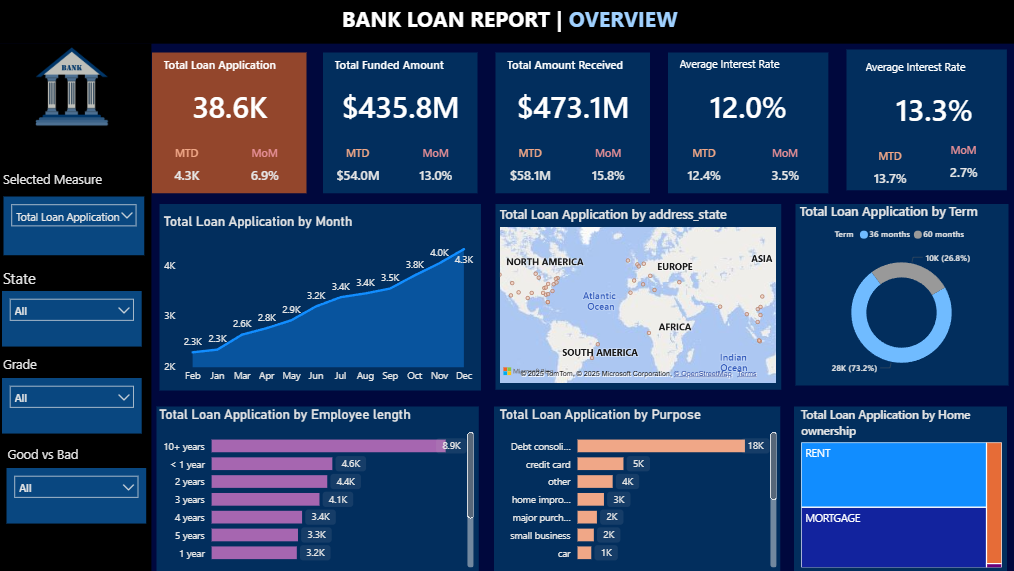

Layout of this report page (visuals, bound fields, positions):
{"tool":"powerbi","page":{"name":"Overview","canvas":[1280,720],"ordinal":1},"visuals":[{"type":"shape","box":[0,54.8,192,665.2],"z":0},{"type":"shape","box":[1068.4,62.4,202.2,177.6],"z":0,"group":"g5"},{"type":"shape","box":[192.8,66.1,194.6,177.6],"z":0,"group":"g1"},{"type":"shape","box":[407.4,66.1,194.6,177.6],"z":0,"group":"g2"},{"type":"shape","box":[625.2,66.1,194.6,177.6],"z":0,"group":"g3"},{"type":"shape","box":[843,66.1,202.2,177.6],"z":0,"group":"g4"},{"type":"shape","box":[0,0,1279.4,55],"z":1000},{"type":"card","fields":{"Values":["Bank loan Data.Total Loan Application"]},"box":[202.2,111.5,175.7,43.5],"z":1000,"group":"g1"},{"type":"card","fields":{"Values":["Bank loan Data.Total Funded Amount"]},"box":[416.8,111.5,175.7,43.5],"z":1000,"group":"g2"},{"type":"card","fields":{"Values":["Bank loan Data.Total Amount Recieved"]},"box":[634.6,111.5,175.7,43.5],"z":1000,"group":"g3"},{"type":"card","fields":{"Values":["Bank loan Data.Average int rate"]},"box":[852.8,111.5,182.6,43.5],"z":1000,"group":"g4"},{"type":"card","fields":{"Values":["Bank loan Data.Average DTI"]},"box":[1087,115.3,182.6,43.5],"z":1000,"group":"g5"},{"type":"textbox","box":[202.2,66.1,177.6,47.2],"z":2000,"group":"g1"},{"type":"textbox","box":[416.8,66.1,177.6,47.2],"z":2000,"group":"g2"},{"type":"textbox","box":[634.6,66.1,177.6,47.2],"z":2000,"group":"g3"},{"type":"textbox","box":[852.8,66.1,184.5,47.2],"z":2000,"group":"g4"},{"type":"textbox","box":[1087,70,184.5,47.2],"z":2000,"group":"g5"},{"type":"shape","box":[202.2,257,405,235],"z":2000},{"type":"textbox","box":[0,332.6,183.3,41.6],"z":2000,"group":"g6"},{"type":"textbox","box":[0,442.2,183.3,41.6],"z":2000,"group":"g7"},{"type":"textbox","box":[5.7,555.6,183.3,41.6],"z":2000,"group":"g8"},{"type":"card","title":"MTD","fields":{"Values":["Bank loan Data.MTD Loan Application"]},"box":[192.8,183.3,86.9,60.5],"z":3000,"group":"g1"},{"type":"card","title":"MTD","fields":{"Values":["Bank loan Data.MTD Funded Amount"]},"box":[407.4,183.3,86.9,60.5],"z":3000,"group":"g2"},{"type":"card","title":"MTD","fields":{"Values":["Bank loan Data.MTD Amount Recieved"]},"box":[625.2,183.3,86.9,60.5],"z":3000,"group":"g3"},{"type":"card","title":"MTD","fields":{"Values":["Bank loan Data.MTD AVG INT Rate"]},"box":[843,183.3,90.3,60.5],"z":3000,"group":"g4"},{"type":"card","title":"MTD","fields":{"Values":["Bank loan Data.MTD AVG DTI"]},"box":[1077.2,187.1,90.3,60.5],"z":3000,"group":"g5"},{"type":"textbox","box":[0,209.8,160.6,51],"z":3000},{"type":"textbox","box":[427.1,0,523.5,54.8],"z":4000},{"type":"card","title":"MoM","fields":{"Values":["Bank loan Data.MoM AVG DTI"]},"box":[1170.5,179.6,90.3,60.5],"z":4000,"group":"g5"},{"type":"card","title":"MoM","fields":{"Values":["Bank loan Data.MoM Loan Application"]},"box":[291.1,183.3,86.9,60.5],"z":4000,"group":"g1"},{"type":"card","title":"MoM","fields":{"Values":["Bank loan Data.MoM Total Funded Amount"]},"box":[505.7,183.3,86.9,60.5],"z":4000,"group":"g2"},{"type":"card","title":"MoM","fields":{"Values":["Bank loan Data.MoM Total Amount Recieved"]},"box":[723.5,183.3,86.9,60.5],"z":4000,"group":"g3"},{"type":"card","title":"MoM","fields":{"Values":["Bank loan Data.MoM AVG INT Rate"]},"box":[945.1,183.3,90.3,60.5],"z":4000,"group":"g4"},{"type":"group","id":"g1","title":"Group 1","box":[192.8,66.1,194.6,177.6],"z":5000},{"type":"group","id":"g2","title":"Group 1","box":[407.4,66.1,194.6,177.6],"z":6000},{"type":"group","id":"g3","title":"Group 1","box":[625.2,66.1,194.6,177.6],"z":7000},{"type":"group","id":"g4","title":"Group 1","box":[843,66.1,202.2,177.6],"z":8000},{"type":"group","id":"g5","title":"Group 1","box":[1068.4,62.4,203.2,185.2],"z":9000},{"type":"group","id":"g6","title":"Group 2","box":[0,332.6,183.3,103.9],"z":10000},{"type":"group","id":"g7","title":"Group 2","box":[0,442.2,183.3,103.9],"z":11000},{"type":"group","id":"g8","title":"Group 2","box":[5.7,555.6,183.3,103.9],"z":12000},{"type":"areaChart","fields":{"Y":["Bank loan Data.Total Loan Application"],"Category":["DateTable.Month"]},"box":[202.2,268.3,400.6,223],"z":13000},{"type":"slicer","fields":{"Values":["Selected Measure.Selected Measure"]},"box":[5.7,247.6,177.6,73.7],"z":14000},{"type":"shape","box":[625.5,257,360,234.3],"z":15000},{"type":"map","fields":{"Category":["Bank loan Data.address_state"],"Size":["Bank loan Data.Total Loan Application"]},"box":[625.5,258.9,359.1,228.7],"z":16000},{"type":"shape","box":[1003.5,257,268.3,228.7],"z":17000},{"type":"donutChart","fields":{"Y":["Bank loan Data.Total Loan Application"],"Category":["Bank loan Data.term"]},"box":[1003.5,255.1,266.5,228.7],"z":18000},{"type":"shape","box":[198.4,512.1,406.3,207.9],"z":19000},{"type":"slicer","fields":{"Values":["Bank loan Data.address_state"]},"box":[3.8,366.6,175.7,69.9],"z":19002,"group":"g6"},{"type":"slicer","fields":{"Values":["Bank loan Data.grade"]},"box":[3.8,476.2,175.7,69.9],"z":19002,"group":"g7"},{"type":"slicer","fields":{"Values":["Bank loan Data.Good vs Bad"]},"box":[9.5,589.6,175.7,69.9],"z":19002,"group":"g8"},{"type":"barChart","fields":{"Y":["Bank loan Data.Total Loan Application"],"Category":["Bank loan Data.emp_length"]},"box":[196.5,512.1,406.3,207.9],"z":20000},{"type":"shape","box":[623.6,512.1,360.9,207.9],"z":21000},{"type":"barChart","fields":{"Y":["Bank loan Data.Total Loan Application"],"Category":["Bank loan Data.purpose"]},"box":[625.5,512.1,359.1,207.9],"z":22000},{"type":"shape","box":[1001.6,512.1,268.3,207.9],"z":23000},{"type":"treemap","fields":{"Values":["Bank loan Data.Total Loan Application"],"Group":["Bank loan Data.home_ownership"]},"box":[1005.4,512.1,262.7,207.9],"z":24000},{"type":"image","box":[0,37.8,183.3,141.7],"z":25000}]}

Visuals, with their boxes in screenshot pixels (x1, y1, x2, y2), scaled from the page's 1280x720 canvas onto the 1014x571 screenshot:
shape: rect(0, 43, 152, 570)
shape: rect(846, 49, 1007, 190)
shape: rect(153, 52, 307, 193)
shape: rect(323, 52, 477, 193)
shape: rect(495, 52, 649, 193)
shape: rect(668, 52, 828, 193)
shape: rect(0, 0, 1013, 44)
card - Bank loan Data.Total Loan Application: rect(160, 88, 299, 123)
card - Bank loan Data.Total Funded Amount: rect(330, 88, 469, 123)
card - Bank loan Data.Total Amount Recieved: rect(503, 88, 642, 123)
card - Bank loan Data.Average int rate: rect(676, 88, 820, 123)
card - Bank loan Data.Average DTI: rect(861, 91, 1006, 126)
textbox: rect(160, 52, 301, 90)
textbox: rect(330, 52, 471, 90)
textbox: rect(503, 52, 643, 90)
textbox: rect(676, 52, 822, 90)
textbox: rect(861, 56, 1007, 93)
shape: rect(160, 204, 481, 390)
textbox: rect(0, 264, 145, 297)
textbox: rect(0, 351, 145, 384)
textbox: rect(5, 441, 150, 474)
"MTD" card: rect(153, 145, 222, 193)
"MTD" card: rect(323, 145, 392, 193)
"MTD" card: rect(495, 145, 564, 193)
"MTD" card: rect(668, 145, 739, 193)
"MTD" card: rect(853, 148, 925, 196)
textbox: rect(0, 166, 127, 207)
textbox: rect(338, 0, 753, 43)
"MoM" card: rect(927, 142, 999, 190)
"MoM" card: rect(231, 145, 299, 193)
"MoM" card: rect(401, 145, 469, 193)
"MoM" card: rect(573, 145, 642, 193)
"MoM" card: rect(749, 145, 820, 193)
"Group 1" group: rect(153, 52, 307, 193)
"Group 1" group: rect(323, 52, 477, 193)
"Group 1" group: rect(495, 52, 649, 193)
"Group 1" group: rect(668, 52, 828, 193)
"Group 1" group: rect(846, 49, 1007, 196)
"Group 2" group: rect(0, 264, 145, 346)
"Group 2" group: rect(0, 351, 145, 433)
"Group 2" group: rect(5, 441, 150, 523)
areaChart - Bank loan Data.Total Loan Application x DateTable.Month: rect(160, 213, 478, 390)
slicer - Selected Measure.Selected Measure: rect(5, 196, 145, 255)
shape: rect(496, 204, 781, 390)
map - Bank loan Data.address_state x Bank loan Data.Total Loan Application: rect(496, 205, 780, 387)
shape: rect(795, 204, 1008, 385)
donutChart - Bank loan Data.Total Loan Application x Bank loan Data.term: rect(795, 202, 1006, 384)
shape: rect(157, 406, 479, 570)
slicer - Bank loan Data.address_state: rect(3, 291, 142, 346)
slicer - Bank loan Data.grade: rect(3, 378, 142, 433)
slicer - Bank loan Data.Good vs Bad: rect(8, 468, 147, 523)
barChart - Bank loan Data.Total Loan Application x Bank loan Data.emp_length: rect(156, 406, 478, 570)
shape: rect(494, 406, 780, 570)
barChart - Bank loan Data.Total Loan Application x Bank loan Data.purpose: rect(496, 406, 780, 570)
shape: rect(793, 406, 1006, 570)
treemap - Bank loan Data.Total Loan Application x Bank loan Data.home_ownership: rect(796, 406, 1005, 570)
image: rect(0, 30, 145, 142)
